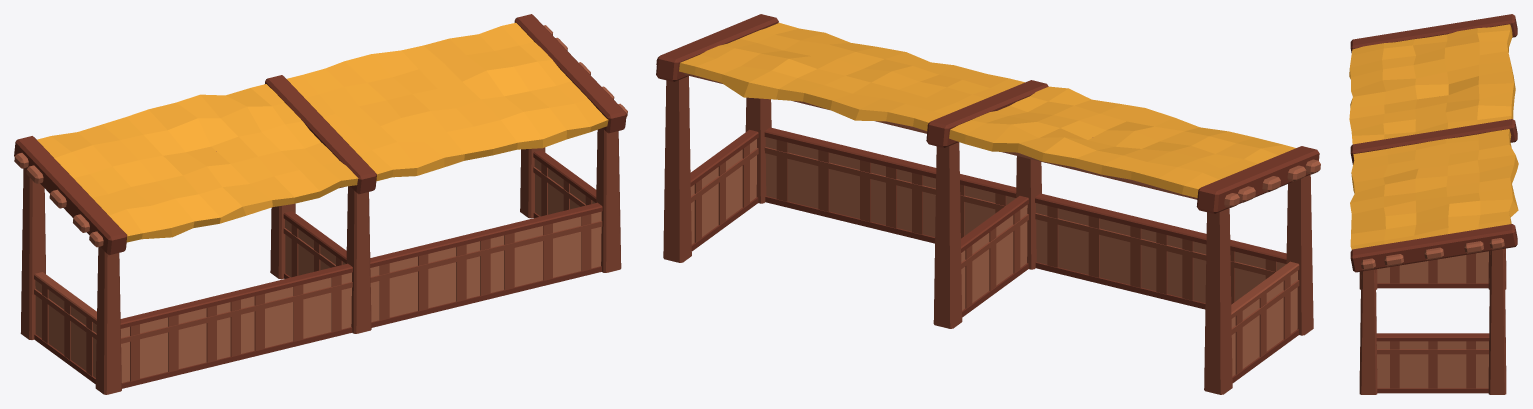
The model's file is Stable.fbx.
The picture shows the model from 3 angles, left to right: view 1: azimuth 30°, elevation 25°; view 2: azimuth 150°, elevation 25°; view 3: azimuth 270°, elevation 25°; orthographic projection. The views are drawn at different scales.
Parts seen in each view (by area): view 1: Stable; view 2: Stable; view 3: Stable.
Boxes of the visible parts, x1,y1,x2,y2 form: Stable: (14, 14, 627, 394); Stable: (656, 14, 1320, 394); Stable: (1349, 14, 1518, 394).
Size of the model in its own units: 11.1 by 3.55 by 3.8.
